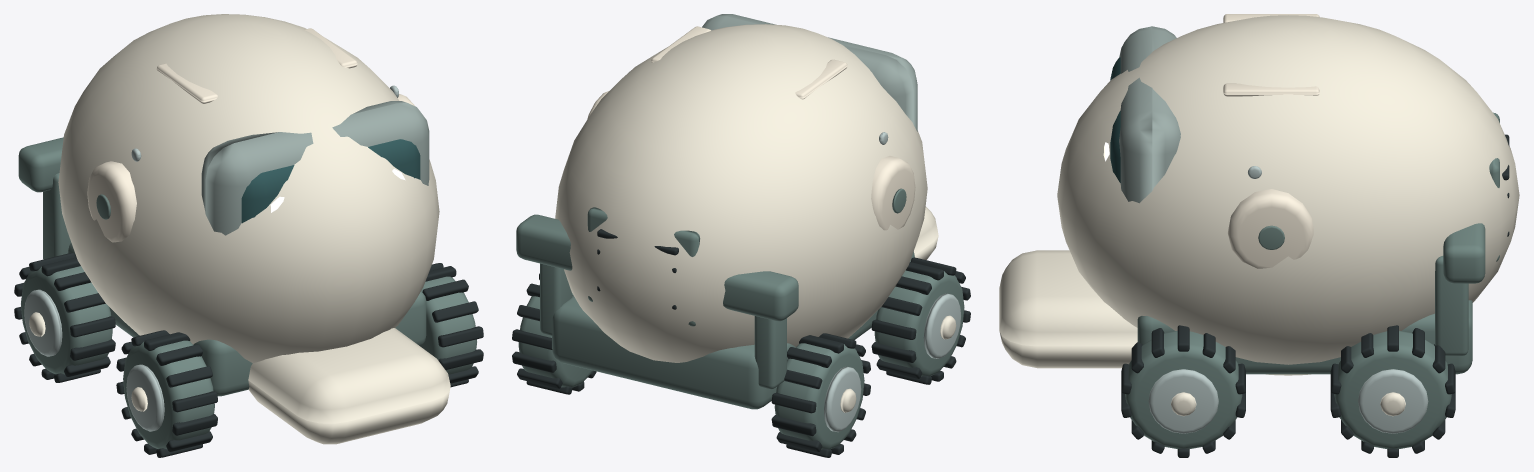
The model's file is zoom-bot.glb.
The picture shows the model from 3 angles, left to right: view 1: azimuth 30°, elevation 25°; view 2: azimuth 150°, elevation 25°; view 3: azimuth 270°, elevation 25°; orthographic projection. The views are drawn at different scales.
Parts seen in each view (by area): view 1: robot_ivory_paint, robot_warm_steel, robot_graphite_rubber, robot_brushed_bezel, robot_warm_cream, robot_machined_alloy, robot_screen; view 2: robot_ivory_paint, robot_warm_steel, robot_graphite_rubber, robot_warm_cream, robot_machined_alloy, robot_brushed_bezel; view 3: robot_ivory_paint, robot_warm_steel, robot_brushed_bezel, robot_graphite_rubber, robot_machined_alloy, robot_warm_cream, robot_screen.
Part boxes in pixels (x1,y1,x2,y2): robot_ivory_paint: (29,14,450,444); robot_warm_steel: (18,137,476,449); robot_graphite_rubber: (14,253,483,457); robot_brushed_bezel: (201,101,429,235); robot_warm_cream: (87,28,414,242); robot_machined_alloy: (24,85,398,431); robot_screen: (241,139,420,223); robot_ivory_paint: (555,24,956,412); robot_warm_steel: (516,188,964,449); robot_graphite_rubber: (512,229,970,457); robot_warm_cream: (587,26,915,230); robot_machined_alloy: (629,71,960,432); robot_brushed_bezel: (702,14,917,131); robot_ivory_paint: (999,15,1519,416); robot_warm_steel: (1125,112,1499,449); robot_brushed_bezel: (1119,26,1180,203); robot_graphite_rubber: (1121,134,1509,457); robot_machined_alloy: (1148,166,1428,433); robot_warm_cream: (1223,14,1319,268); robot_screen: (1110,57,1120,182).
Size of the model in its own units: 0.93 by 0.921 by 1.24.
